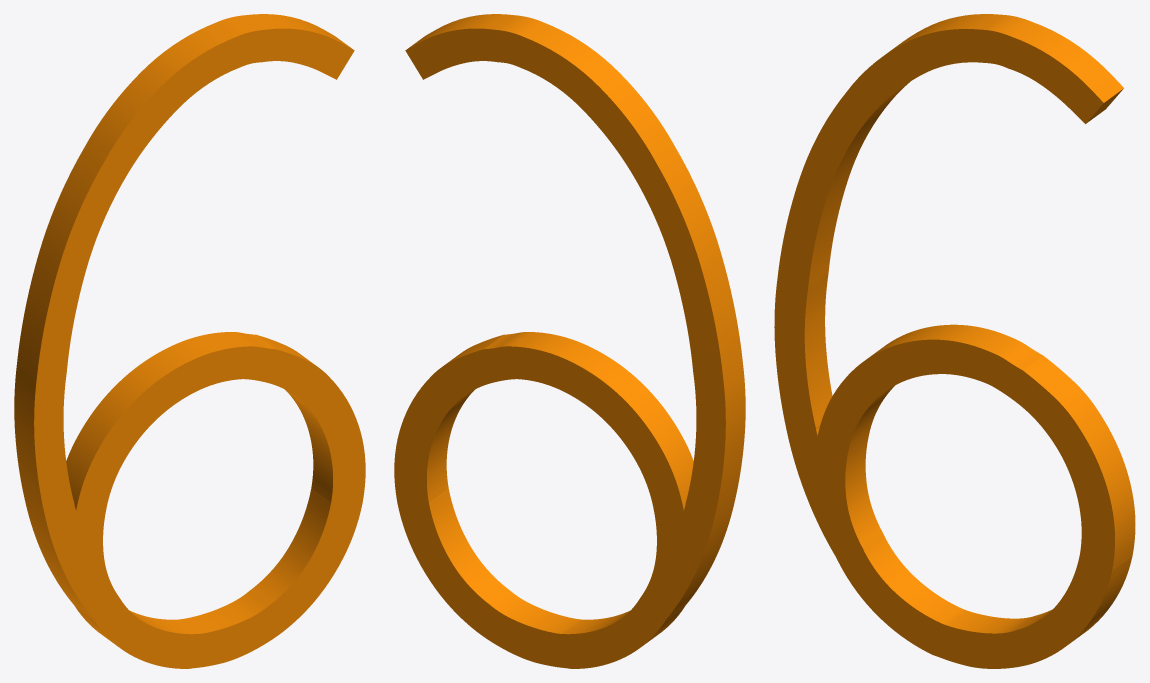
The picture shows the model from 3 angles, left to right: view 1: azimuth 30°, elevation 25°; view 2: azimuth 150°, elevation 25°; view 3: azimuth 330°, elevation 25°; orthographic projection. The views are drawn at different scales.
Visible parts, largest first — view 1: 6; view 2: 6; view 3: 6.
Boxes of the visible parts, box(x1,y1,x2,y2) form: 6: box(14, 14, 365, 668); 6: box(394, 14, 745, 668); 6: box(774, 14, 1135, 668).
Bounding box in the file's own units: 48.22 × 86.77 × 5.
